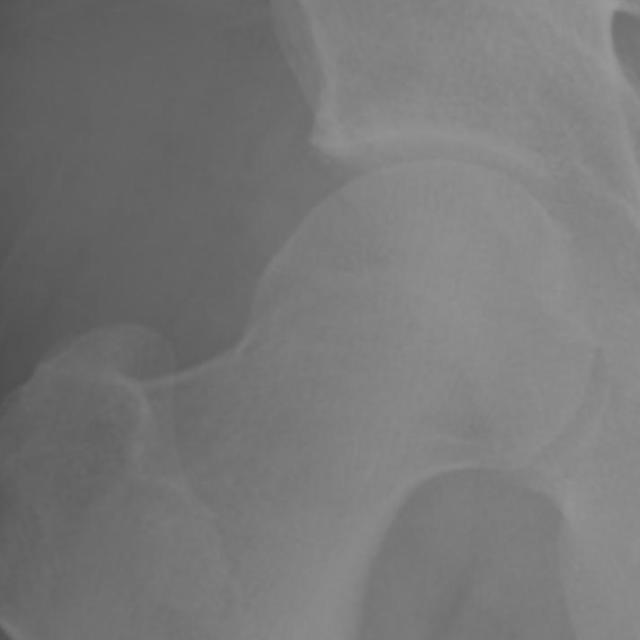Fitted_femural_head: (341, 152, 432, 341)
